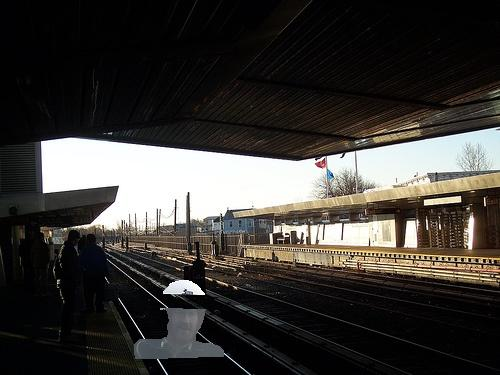tampered: (135, 281, 224, 359)
